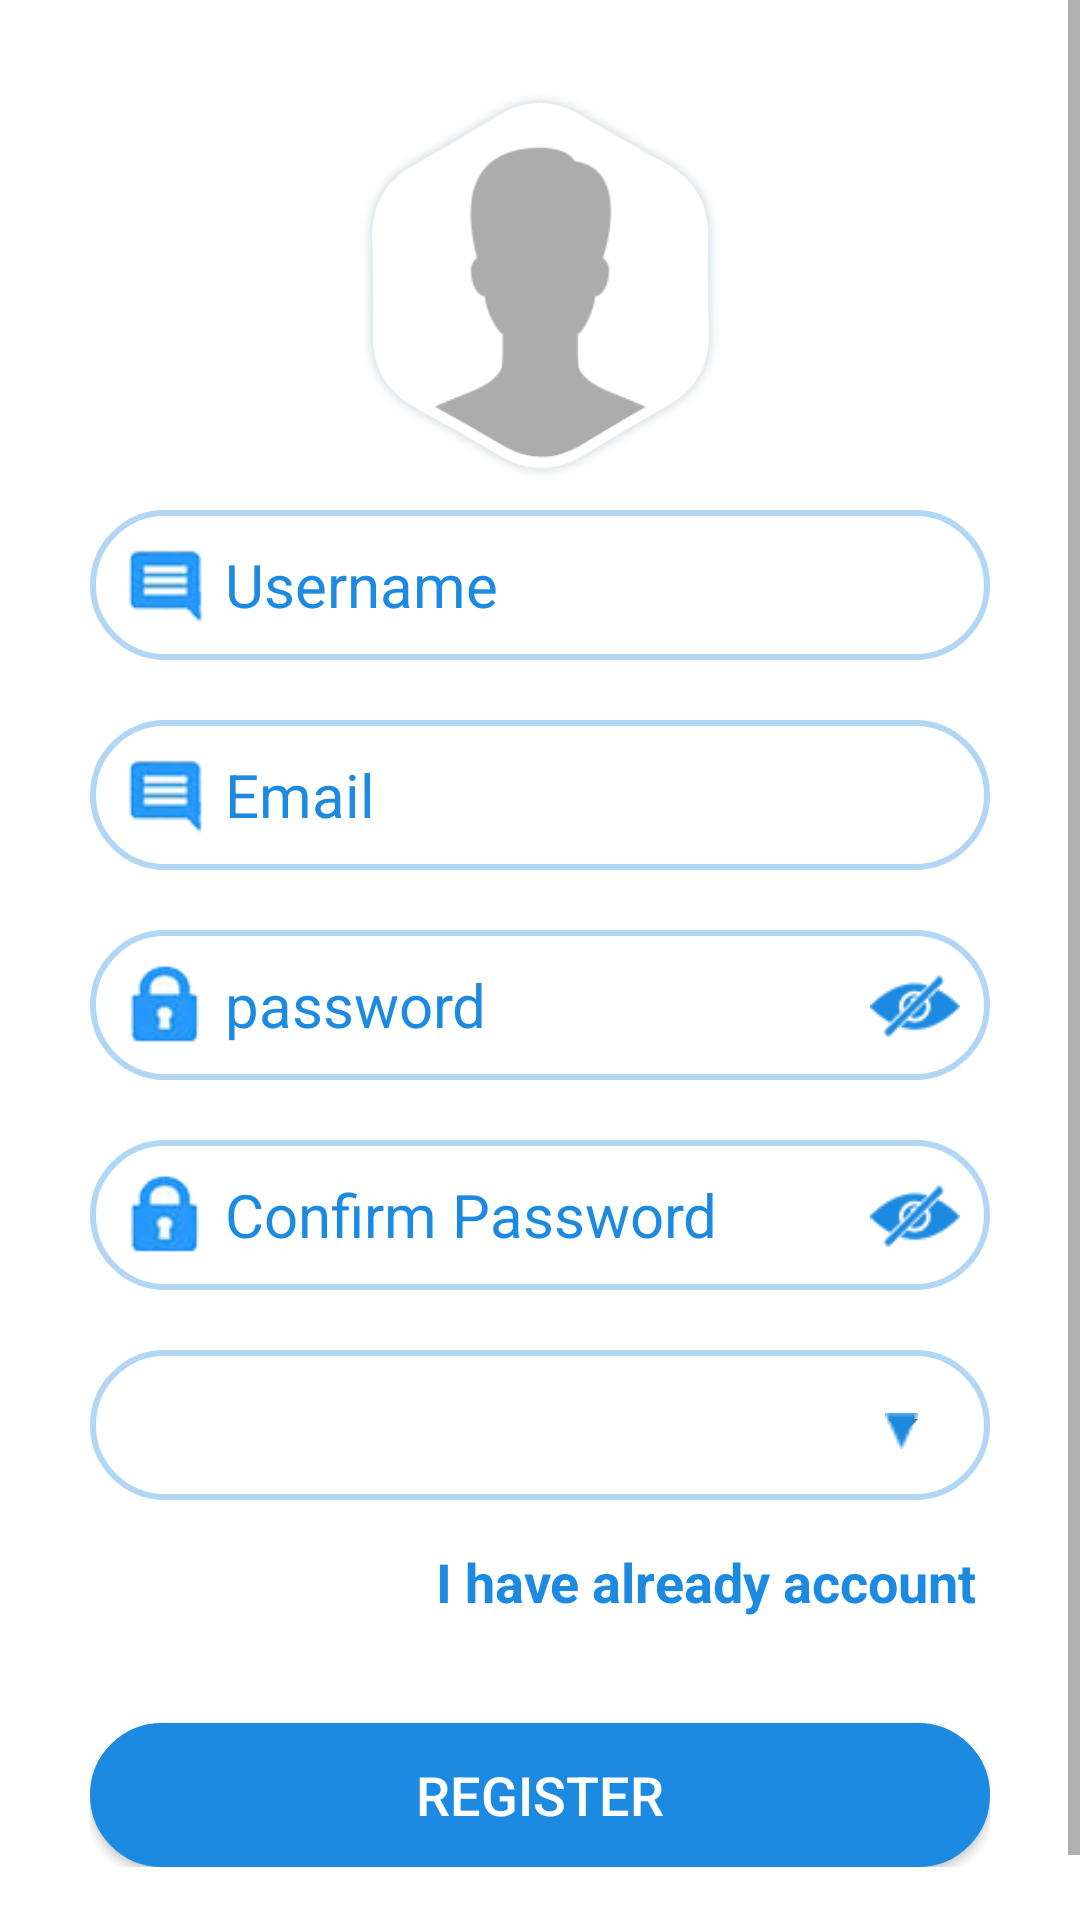

Locate icon controls on the screen. Image size 1080px×1920px, boxes as [x1=x1, y1=y1, x2=x2, y2=y2].
eye hide: [x1=870, y1=975, x2=960, y2=1037], [x1=870, y1=1185, x2=960, y2=1247]
